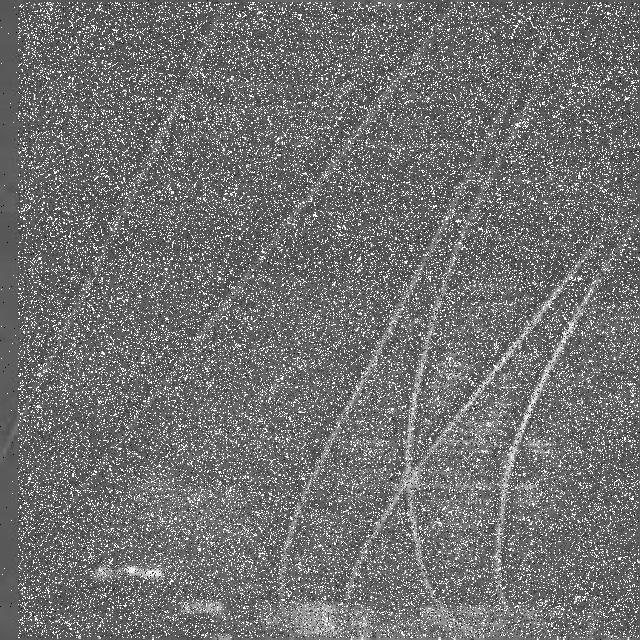rail: (19, 3, 640, 638)
